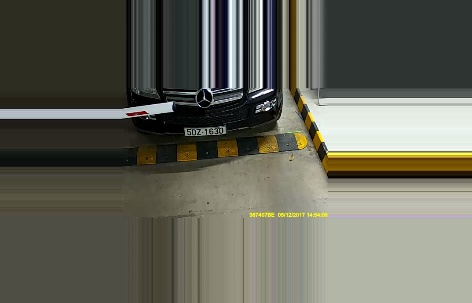plate: (181, 122, 228, 137)
